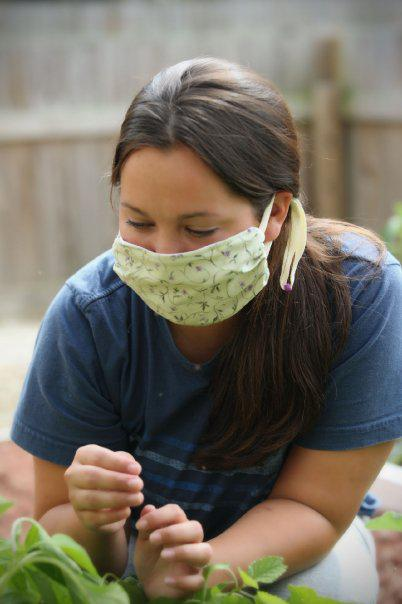OK: (119, 182, 265, 323)
